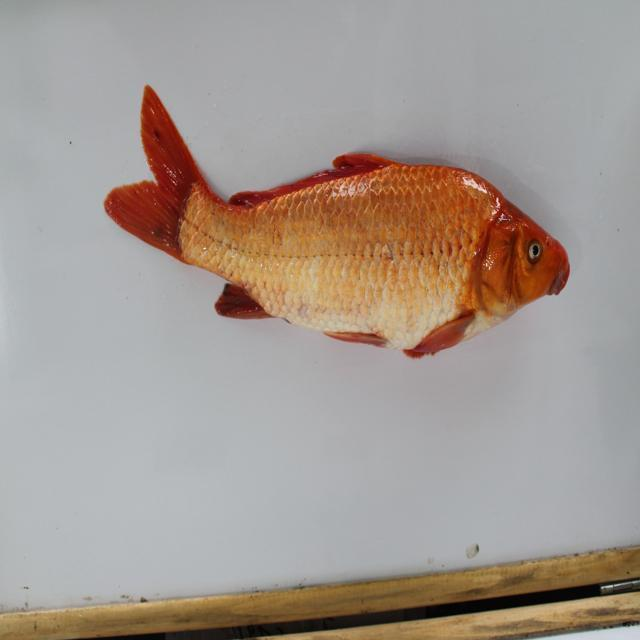Gold-Fish: (80, 77, 577, 393)
